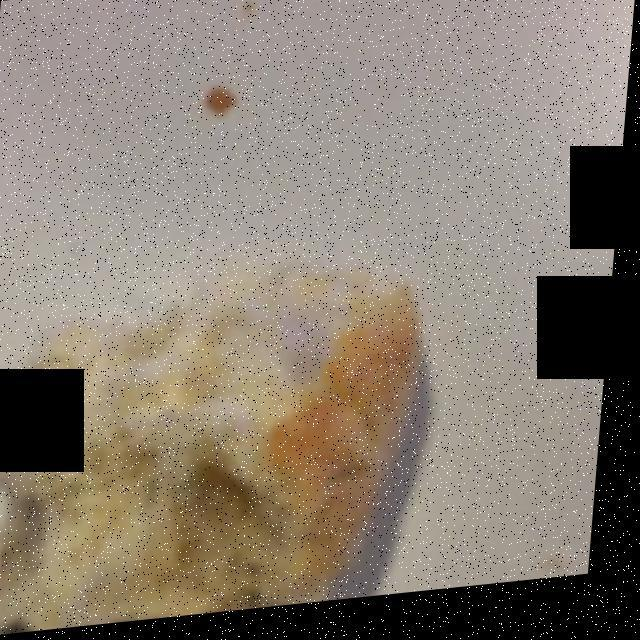bread: (0, 272, 434, 609)
